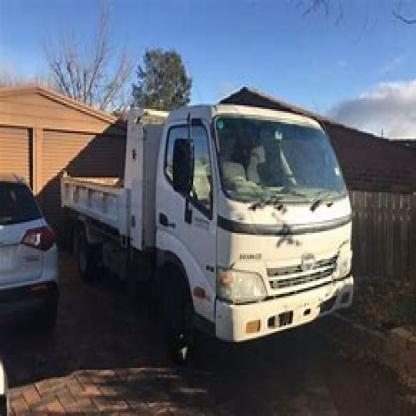dump_truck: (50, 80, 386, 346)
